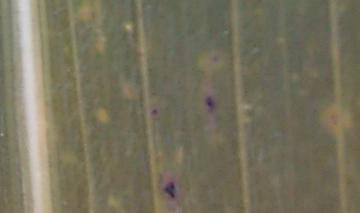tarspot: (162, 181, 177, 199), (203, 94, 217, 113), (210, 53, 221, 63), (150, 107, 158, 115)
